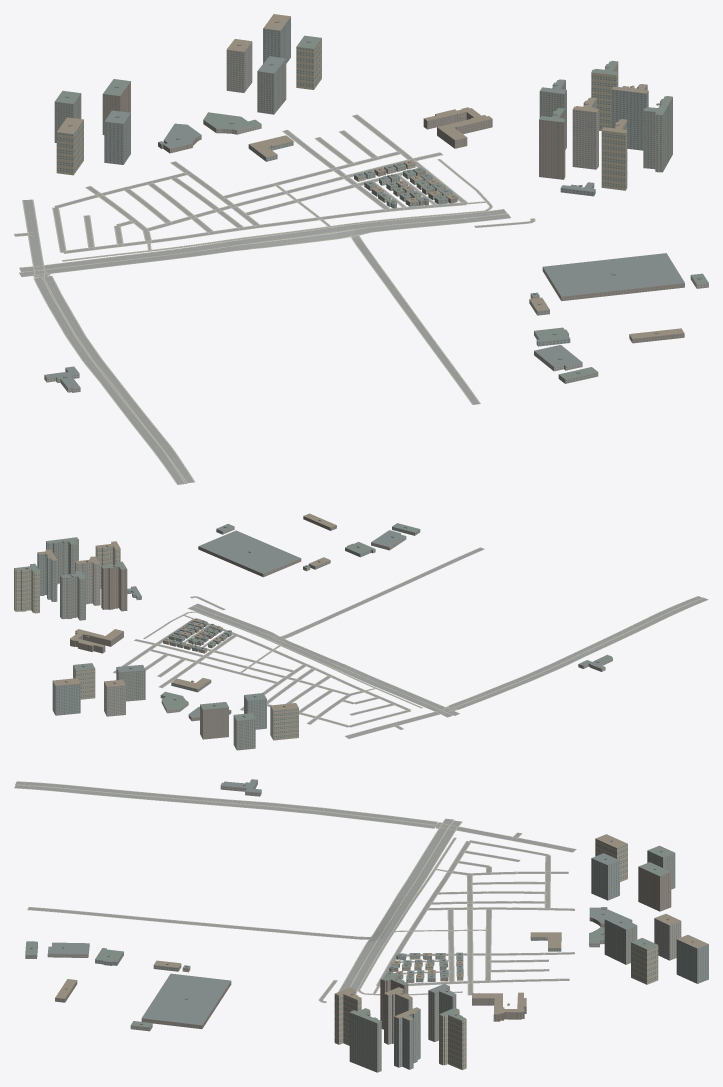
3 renders of one model, top to bottom at view 1: azimuth 30°, elevation 25°; view 2: azimuth 150°, elevation 25°; view 3: azimuth 270°, elevation 25°, orthographic. The views are drawn at different scales.
Visible parts, largest first — view 1: context-osm-buildings, context-osm-roads, context-osm-sidewalks; view 2: context-osm-buildings, context-osm-roads, context-osm-sidewalks; view 3: context-osm-buildings, context-osm-roads, context-osm-sidewalks.
Part boxes in pixels (x1,y1,x2,y2): context-osm-buildings: (44, 14, 708, 392); context-osm-roads: (14, 114, 534, 484); context-osm-sidewalks: (14, 114, 535, 484); context-osm-buildings: (14, 513, 612, 750); context-osm-roads: (113, 547, 707, 738); context-osm-sidewalks: (113, 547, 708, 738); context-osm-buildings: (25, 779, 708, 1072); context-osm-roads: (14, 781, 575, 1002); context-osm-sidewalks: (14, 781, 576, 1003).
Bounding box in the file's own units: 1069 × 92.22 × 1062.
